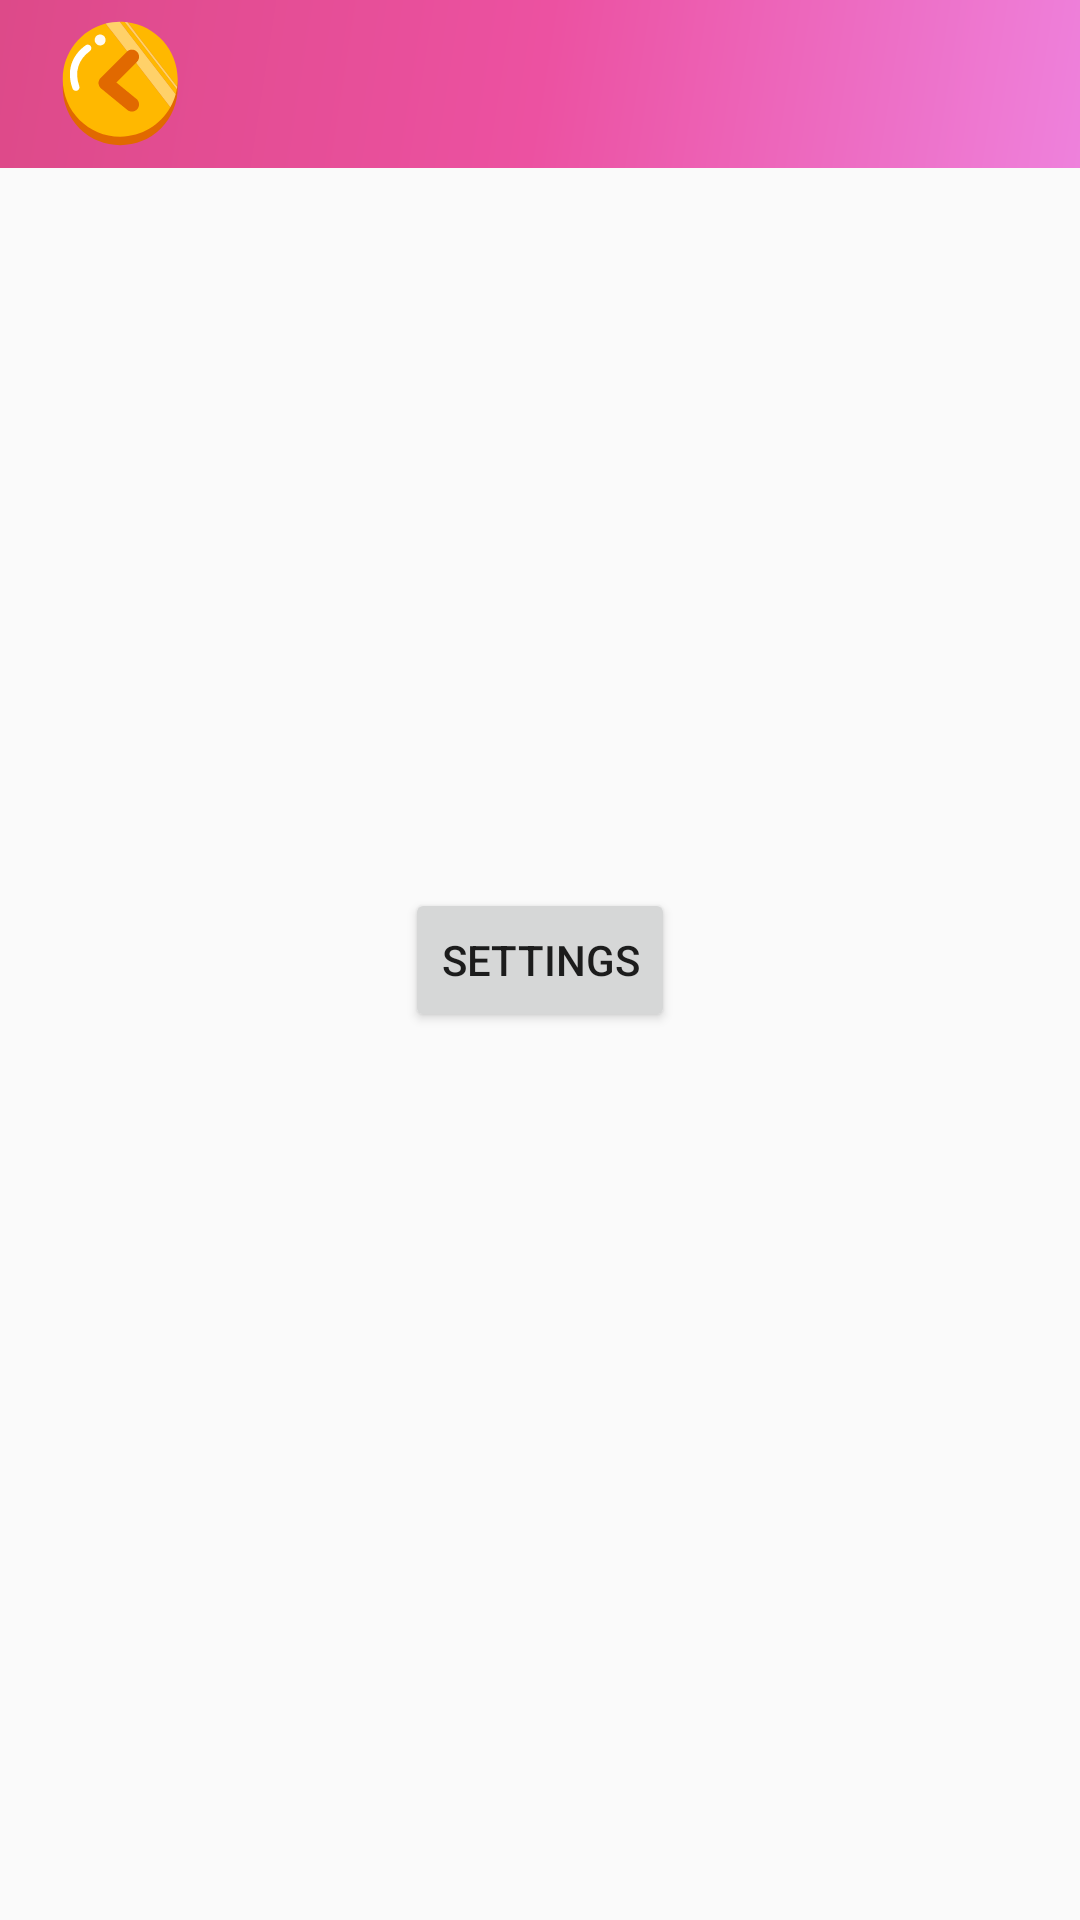

Where to tap for icons on this 1080 × 1920 app screen, as (x,y):
bar back: (120,83)
